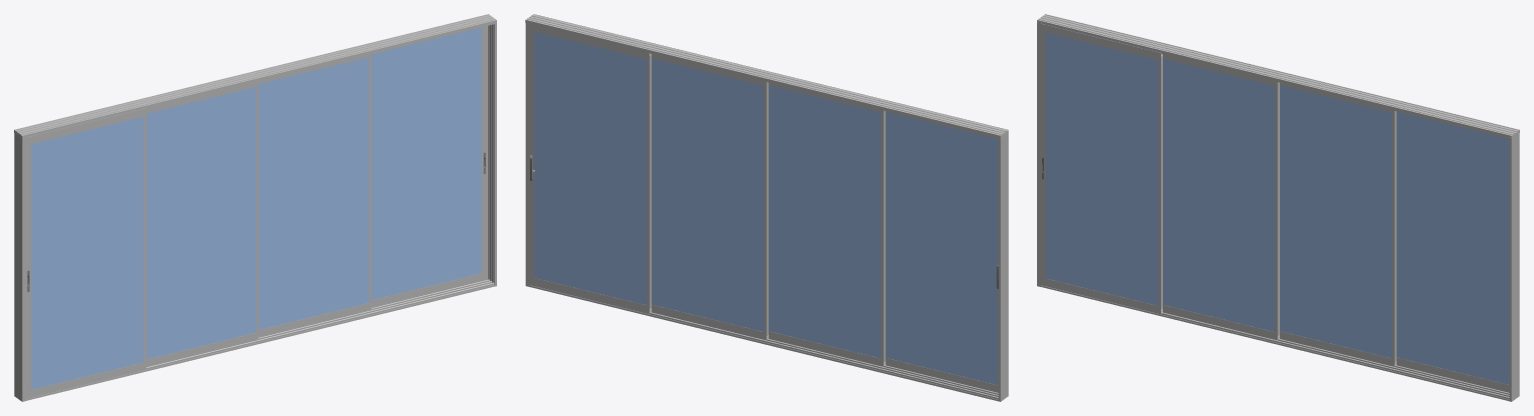
3 renders of one model, left to right at view 1: azimuth 30°, elevation 25°; view 2: azimuth 150°, elevation 25°; view 3: azimuth 330°, elevation 25°, orthographic.
Parts seen in each view (by area): view 1: 3DGeom-20 (×4), 3DGeom-41, 3DGeom-17 (×6), 3DGeom-45, 3DGeom-57 (×2), 3DGeom-42, 3DGeom-2 (×3), 3DGeom-44, 3DGeom-43; view 2: 3DGeom-20 (×4), 3DGeom-41, 3DGeom-17 (×6), 3DGeom-2 (×3), 3DGeom-45, 3DGeom-42, 3DGeom-57, 3DGeom-44, 3DGeom-43; view 3: 3DGeom-20 (×4), 3DGeom-41, 3DGeom-17 (×6), 3DGeom-2 (×3), 3DGeom-44, 3DGeom-42, 3DGeom-57, 3DGeom-45, 3DGeom-43.
Boxes of the visible parts, <box> form: 3DGeom-20 (×4): <box>31,27,481,389</box>; 3DGeom-41: <box>14,14,496,138</box>; 3DGeom-17 (×6): <box>30,82,481,397</box>; 3DGeom-45: <box>14,132,27,401</box>; 3DGeom-57 (×2): <box>26,26,486,398</box>; 3DGeom-42: <box>23,279,494,401</box>; 3DGeom-2 (×3): <box>143,54,371,370</box>; 3DGeom-44: <box>487,21,496,286</box>; 3DGeom-43: <box>146,279,493,367</box>; 3DGeom-20 (×4): <box>534,32,997,384</box>; 3DGeom-41: <box>525,14,1008,138</box>; 3DGeom-17 (×6): <box>534,25,997,392</box>; 3DGeom-2 (×3): <box>647,52,885,366</box>; 3DGeom-45: <box>998,132,1008,401</box>; 3DGeom-42: <box>529,285,998,401</box>; 3DGeom-57: <box>529,24,534,285</box>; 3DGeom-44: <box>525,23,530,286</box>; 3DGeom-43: <box>650,312,998,397</box>; 3DGeom-20 (×4): <box>1046,33,1509,384</box>; 3DGeom-41: <box>1037,14,1519,138</box>; 3DGeom-17 (×6): <box>1045,24,1509,392</box>; 3DGeom-2 (×3): <box>1158,52,1396,366</box>; 3DGeom-44: <box>1509,132,1519,401</box>; 3DGeom-42: <box>1038,285,1509,401</box>; 3DGeom-57: <box>1040,23,1045,286</box>; 3DGeom-45: <box>1037,21,1042,286</box>; 3DGeom-43: <box>1161,312,1509,397</box>.
Bounding box in the file's own units: 4.55 × 2.44 × 0.1679.
